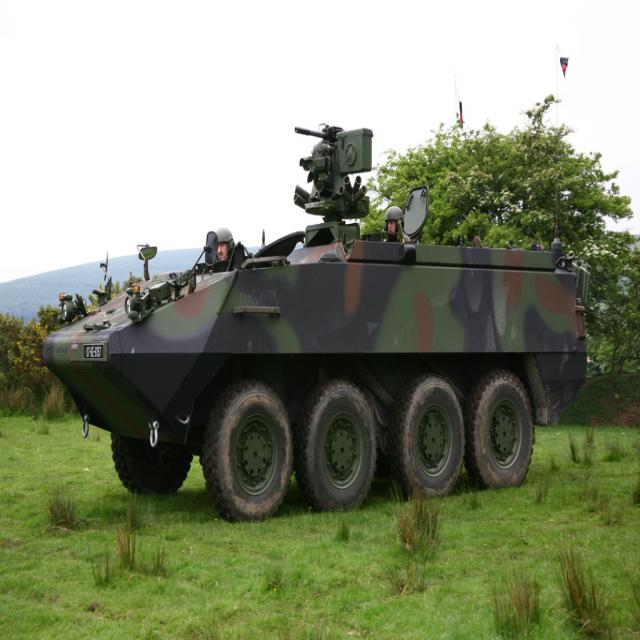tank: (41, 124, 590, 524)
